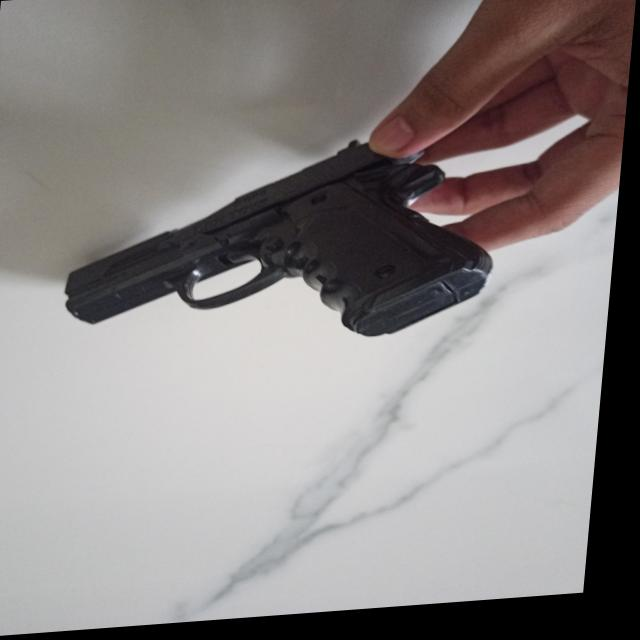handgun: (64, 139, 510, 366)
